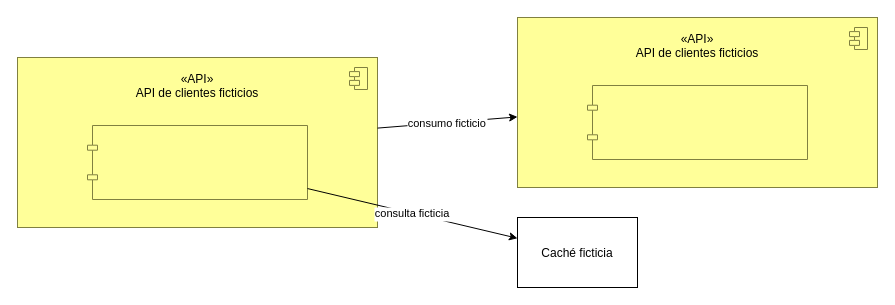
Image size: 895x305. Some labels were removed from this diagram. Each missing label, with the centre of its shape:
"«GET» /clientes/{clienteId}" belongs at point (697, 122).
"«GET» /clientes/{clienteId} Nota visual ficticia" belongs at point (197, 162).
